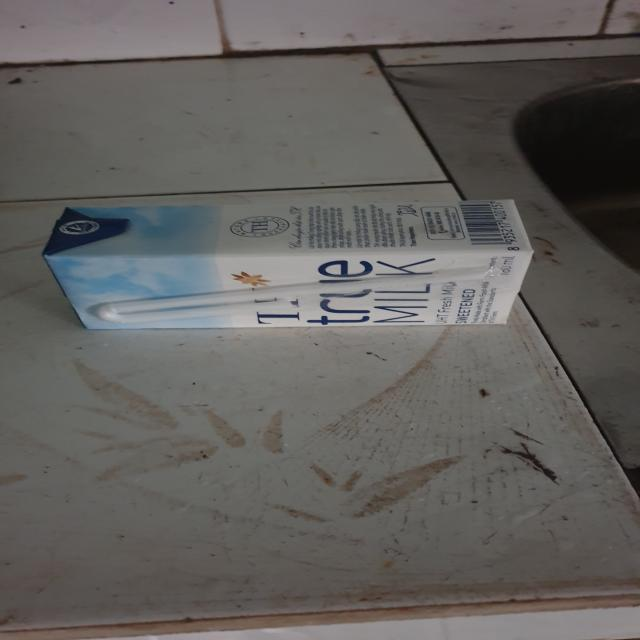TH: (43, 199, 533, 329)
